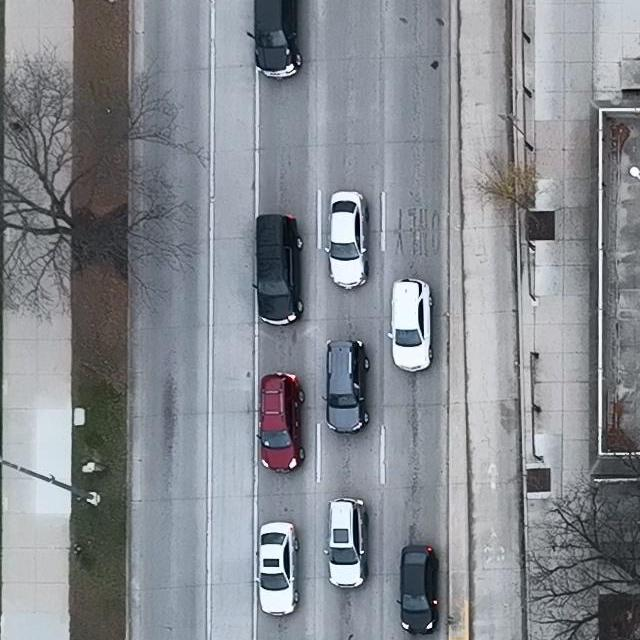car: (251, 213, 304, 326), (256, 372, 306, 472), (321, 339, 370, 434), (246, 0, 302, 80), (387, 277, 433, 373), (254, 520, 299, 617), (323, 498, 370, 589), (324, 191, 367, 290), (396, 545, 438, 634)
